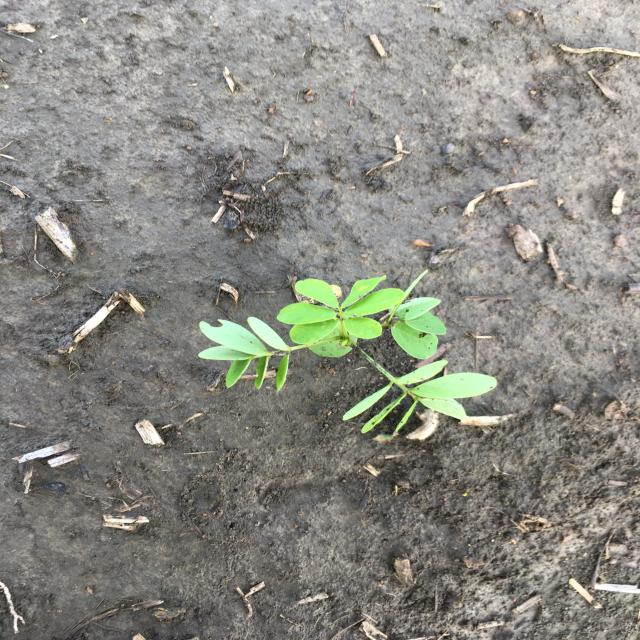Sicklepod: (196, 268, 502, 438)
